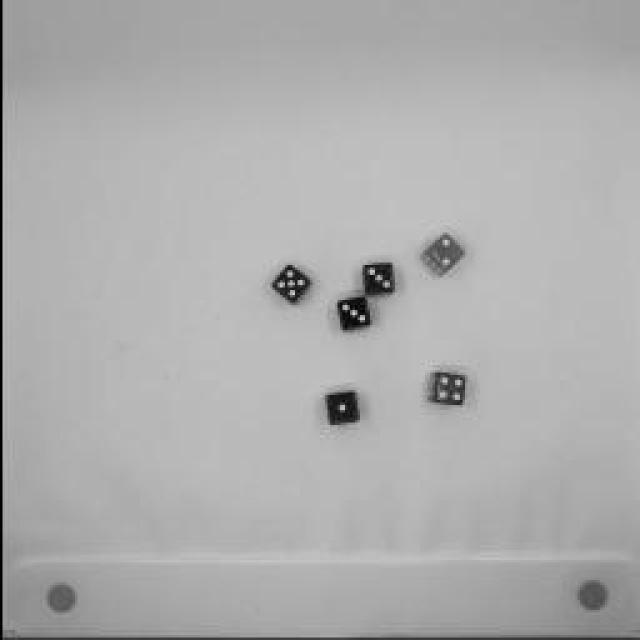dice_1: (318, 386, 362, 434)
dice_2: (411, 228, 469, 284)
dice_3: (348, 258, 398, 302), (330, 294, 375, 336)
dice_4: (421, 365, 471, 415)
dice_5: (264, 258, 316, 312)
